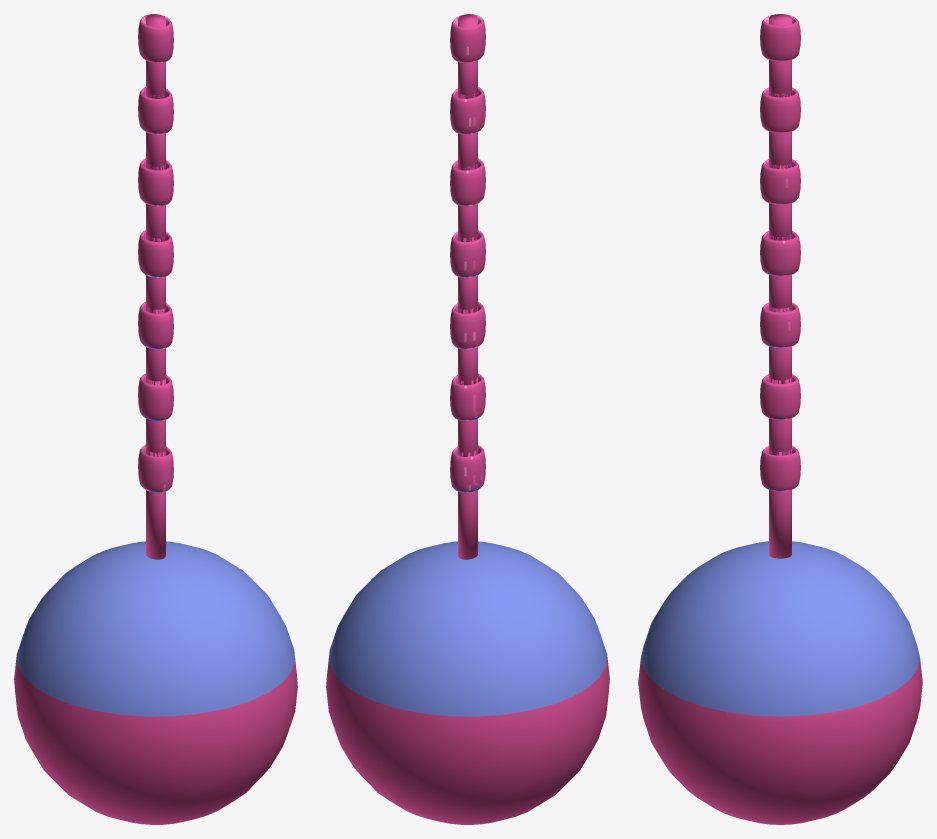
File: obtsaculo bola 1.fbx
The picture shows the model from 3 angles, left to right: view 1: azimuth 30°, elevation 25°; view 2: azimuth 150°, elevation 25°; view 3: azimuth 270°, elevation 25°; orthographic projection.
Visible parts, largest first — view 1: Sphere, Cylinder.006; view 2: Sphere, Cylinder.006; view 3: Sphere, Cylinder.006.
Boxes of the visible parts, x1,y1,x2,y2 form: Sphere: [14, 541, 297, 824]; Cylinder.006: [138, 14, 173, 559]; Sphere: [326, 541, 609, 824]; Cylinder.006: [450, 14, 485, 559]; Sphere: [638, 541, 922, 824]; Cylinder.006: [760, 14, 800, 558].
Bounding box in the file's own units: 800 × 2461 × 800.
Materials: 2 (2 with a texture image).
